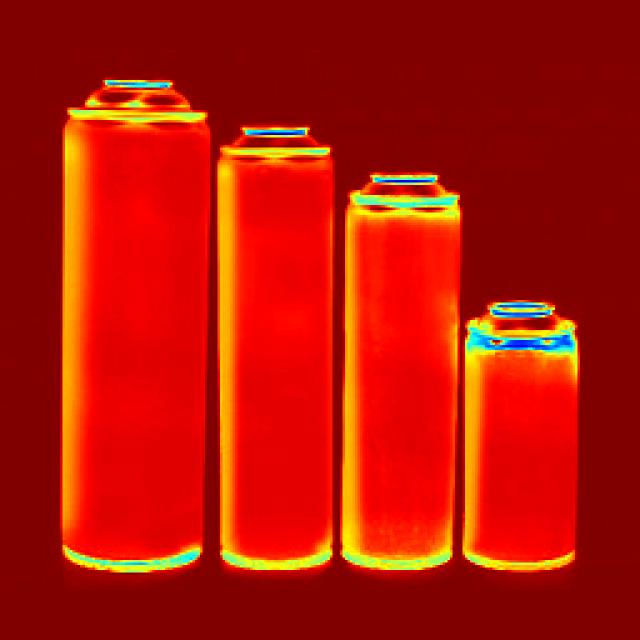Aerosol Cans: (56, 54, 220, 580), (214, 100, 332, 563), (336, 146, 466, 561), (468, 274, 588, 578)
